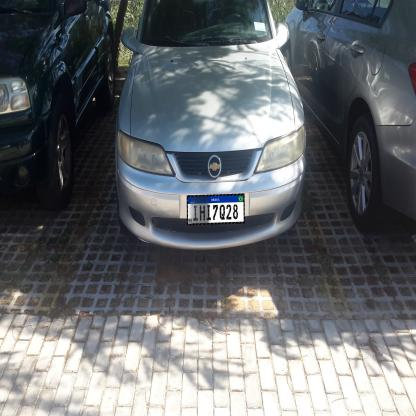PlacaM: (187, 194, 245, 225)
